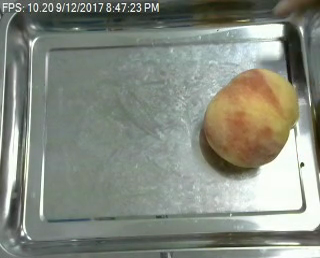Peach: (202, 67, 298, 167)
